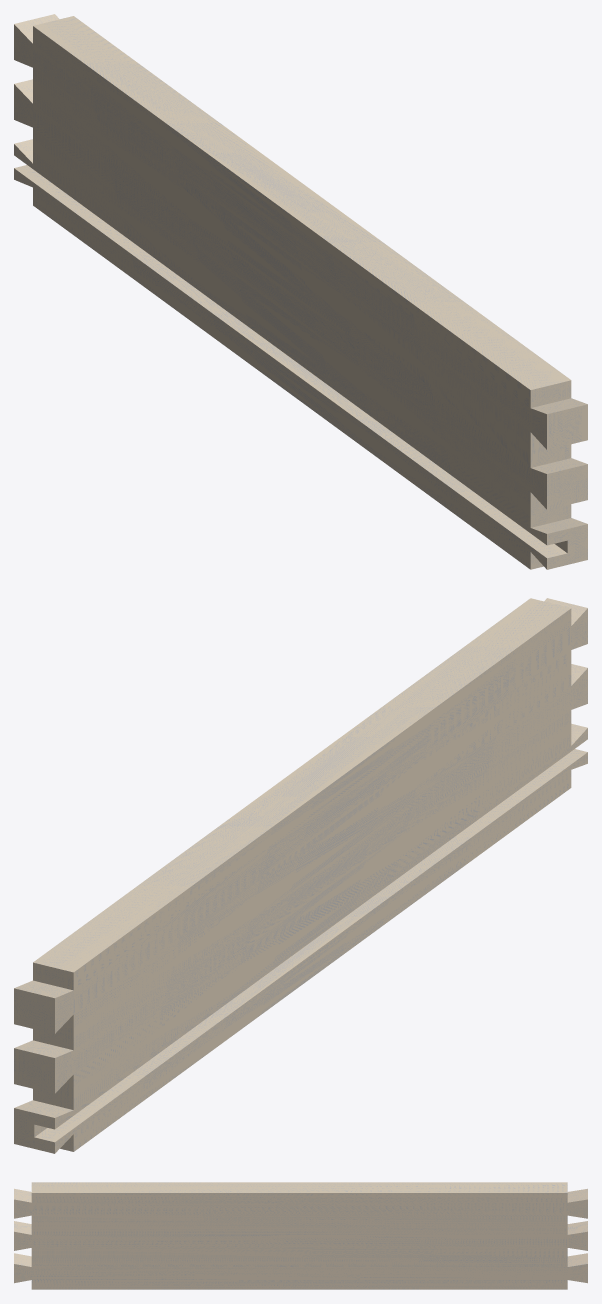
The model's file is original-71.obj.
The picture shows the model from 3 angles, top to bottom: view 1: azimuth 30°, elevation 25°; view 2: azimuth 150°, elevation 25°; view 3: azimuth 270°, elevation 25°; orthographic projection. The views are drawn at different scales.
Parts seen in each view (by area): view 1: Cotecomplet3/Cotecomplet12/mesh10/mesh10-geometry#mesh10-geometr; view 2: Cotecomplet3/Cotecomplet12/mesh10/mesh10-geometry#mesh10-geometr; view 3: Cotecomplet3/Cotecomplet12/mesh10/mesh10-geometry#mesh10-geometr.
Boxes of the visible parts, x1=… form: Cotecomplet3/Cotecomplet12/mesh10/mesh10-geometry#mesh10-geometr: x1=14, y1=14, x2=587, y2=569; Cotecomplet3/Cotecomplet12/mesh10/mesh10-geometry#mesh10-geometr: x1=14, y1=598, x2=587, y2=1153; Cotecomplet3/Cotecomplet12/mesh10/mesh10-geometry#mesh10-geometr: x1=14, y1=1182, x2=587, y2=1289.
Bounding box in the file's own units: 0.011 × 0.046 × 0.2476.
